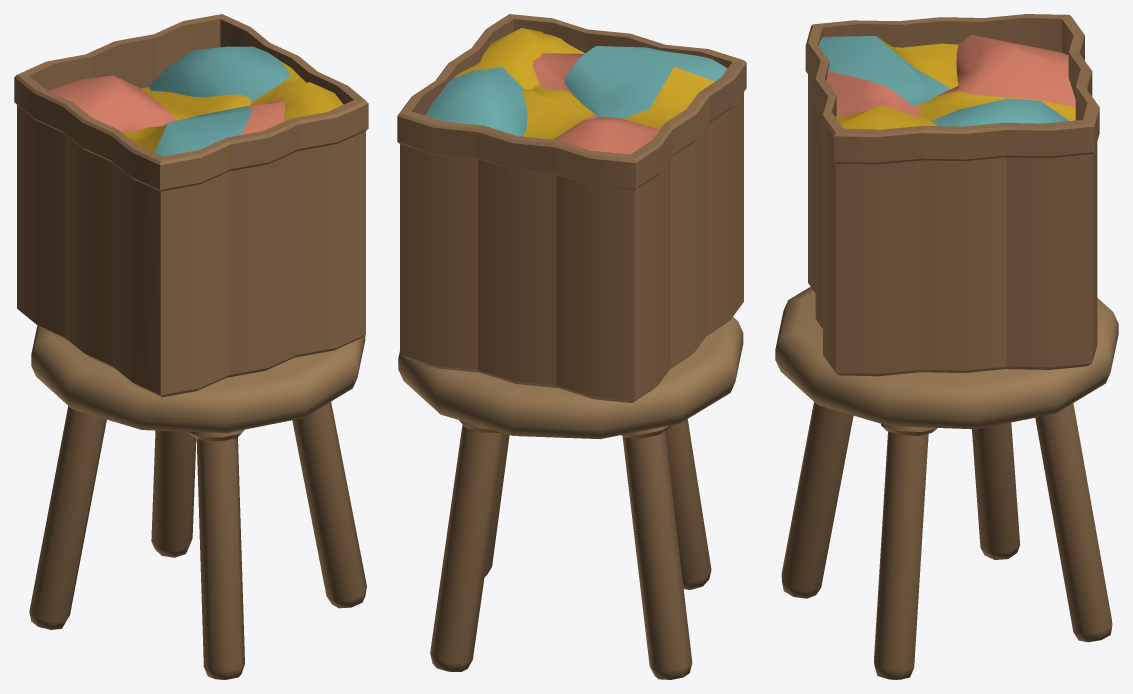
File: ChairandBox.fbx
3 renders of one model, left to right at view 1: azimuth 30°, elevation 25°; view 2: azimuth 150°, elevation 25°; view 3: azimuth 270°, elevation 25°, orthographic. The views are drawn at different scales.
Parts seen in each view (by area): view 1: 01_Props-group_02; view 2: 01_Props-group_02; view 3: 01_Props-group_02.
Part boxes in pixels (box(x1,y1,x2,y2)): 01_Props-group_02: box(14, 14, 368, 679); 01_Props-group_02: box(397, 14, 746, 679); 01_Props-group_02: box(775, 14, 1118, 679).
Bounding box in the file's own units: 28.61 × 50.8 × 28.61.
